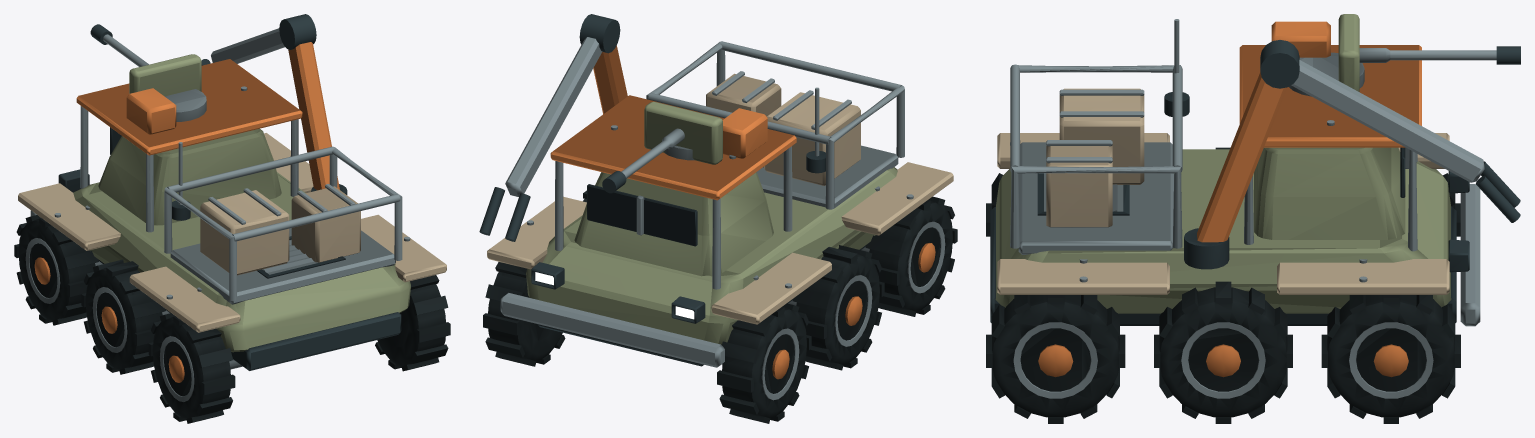
The model's file is ScrapperRig.glb.
3 views of the same model, side by side, from view 1: azimuth 30°, elevation 25°; view 2: azimuth 150°, elevation 25°; view 3: azimuth 270°, elevation 25° (orthographic). The views are drawn at different scales.
Visible parts, largest first — view 1: export_ScrapperRig_Axle, export_ScrapperRig_Wheel_-1.10_-1.19_Tire, export_ScrapperRig_Wheel_-1.10_0.00_Tire, export_ScrapperRig_Wheel_-1.10_1.19_Tire, export_ScrapperRig_CraneBase, export_ScrapperRig_DefenseGunRing, export_ScrapperRig_Wheel_1.10_-1.19_Tire, export_ScrapperRig_20mmBarrel; view 2: export_ScrapperRig_Axle, export_ScrapperRig_Wheel_-1.10_1.19_Tire, export_ScrapperRig_Wheel_-1.10_0.00_Tire, export_ScrapperRig_CraneBase, export_ScrapperRig_Wheel_-1.10_-1.19_Tire, export_ScrapperRig_DefenseGunRing, export_ScrapperRig_Wheel_1.10_1.19_Tire, export_ScrapperRig_20mmBarrel; view 3: export_ScrapperRig_Axle, export_ScrapperRig_Wheel_1.10_0.00_Tire, export_ScrapperRig_CraneBase, export_ScrapperRig_Wheel_1.10_-1.19_Tire, export_ScrapperRig_Wheel_1.10_1.19_Tire, export_ScrapperRig_DefenseGunRing, export_ScrapperRig_20mmBarrel.
Boxes of the visible parts, left/top/right/bottom form: export_ScrapperRig_Axle: left=18, top=59, right=446, bottom=370; export_ScrapperRig_Wheel_-1.10_-1.19_Tire: left=148, top=313, right=235, bottom=423; export_ScrapperRig_Wheel_-1.10_0.00_Tire: left=81, top=259, right=165, bottom=374; export_ScrapperRig_Wheel_-1.10_1.19_Tire: left=14, top=215, right=98, bottom=325; export_ScrapperRig_CraneBase: left=201, top=14, right=347, bottom=194; export_ScrapperRig_DefenseGunRing: left=126, top=54, right=206, bottom=134; export_ScrapperRig_Wheel_1.10_-1.19_Tire: left=375, top=275, right=450, bottom=371; export_ScrapperRig_20mmBarrel: left=90, top=24, right=148, bottom=66; export_ScrapperRig_Axle: left=487, top=41, right=953, bottom=367; export_ScrapperRig_Wheel_-1.10_1.19_Tire: left=717, top=303, right=811, bottom=423; export_ScrapperRig_Wheel_-1.10_0.00_Tire: left=792, top=245, right=884, bottom=370; export_ScrapperRig_CraneBase: left=479, top=14, right=627, bottom=241; export_ScrapperRig_Wheel_-1.10_-1.19_Tire: left=865, top=196, right=957, bottom=316; export_ScrapperRig_DefenseGunRing: left=644, top=101, right=767, bottom=164; export_ScrapperRig_Wheel_1.10_1.19_Tire: left=483, top=262, right=565, bottom=366; export_ScrapperRig_20mmBarrel: left=602, top=128, right=684, bottom=193; export_ScrapperRig_Axle: left=990, top=45, right=1480, bottom=326; export_ScrapperRig_Wheel_1.10_0.00_Tire: left=1154, top=281, right=1292, bottom=423; export_ScrapperRig_CraneBase: left=1184, top=40, right=1520, bottom=269; export_ScrapperRig_Wheel_1.10_-1.19_Tire: left=986, top=295, right=1125, bottom=423; export_ScrapperRig_Wheel_1.10_1.19_Tire: left=1321, top=295, right=1460, bottom=423; export_ScrapperRig_DefenseGunRing: left=1271, top=14, right=1364, bottom=96; export_ScrapperRig_20mmBarrel: left=1359, top=46, right=1520, bottom=64.
Size of the model in its own units: 2.58 by 2.78 by 3.79.
